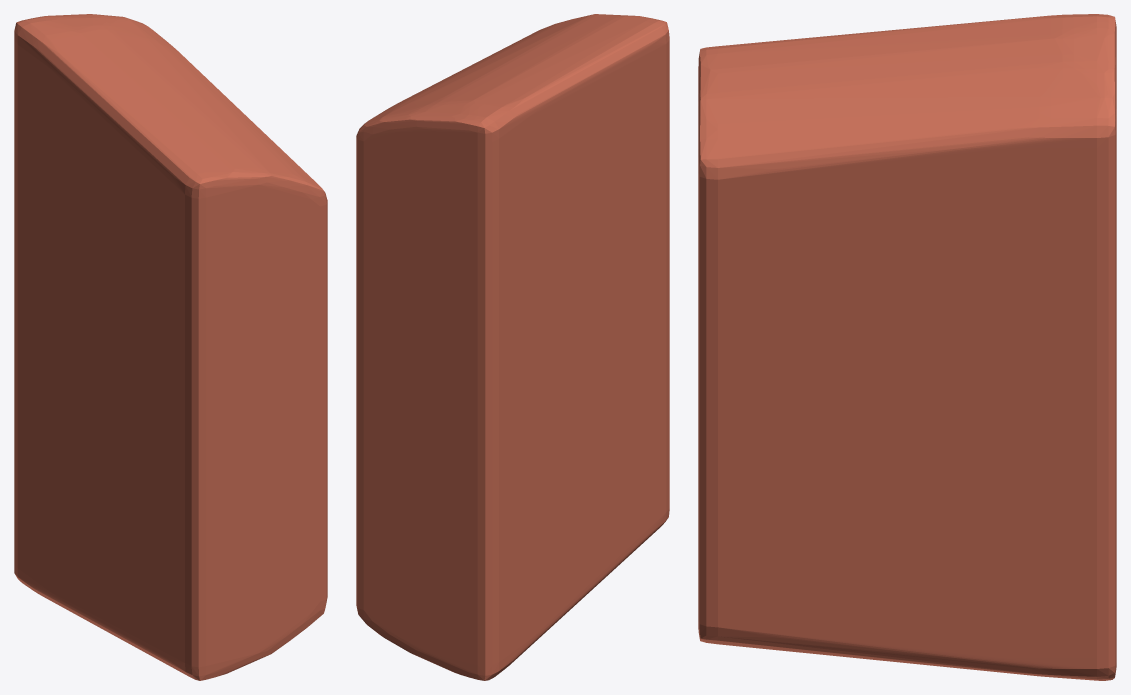
The model's file is left_th_middle_part_9.obj.
3 views of the same model, side by side, from view 1: azimuth 30°, elevation 25°; view 2: azimuth 150°, elevation 25°; view 3: azimuth 270°, elevation 25° (orthographic). The views are drawn at different scales.
Size of the model in its own units: 5.81 by 22.27 by 13.31.
